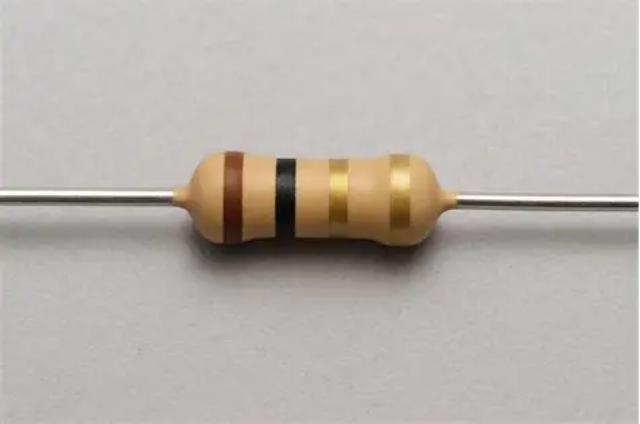black: (273, 158, 296, 238)
brown: (224, 152, 243, 246)
gold: (390, 153, 409, 246), (328, 158, 348, 237)
resistor: (176, 119, 461, 264)
